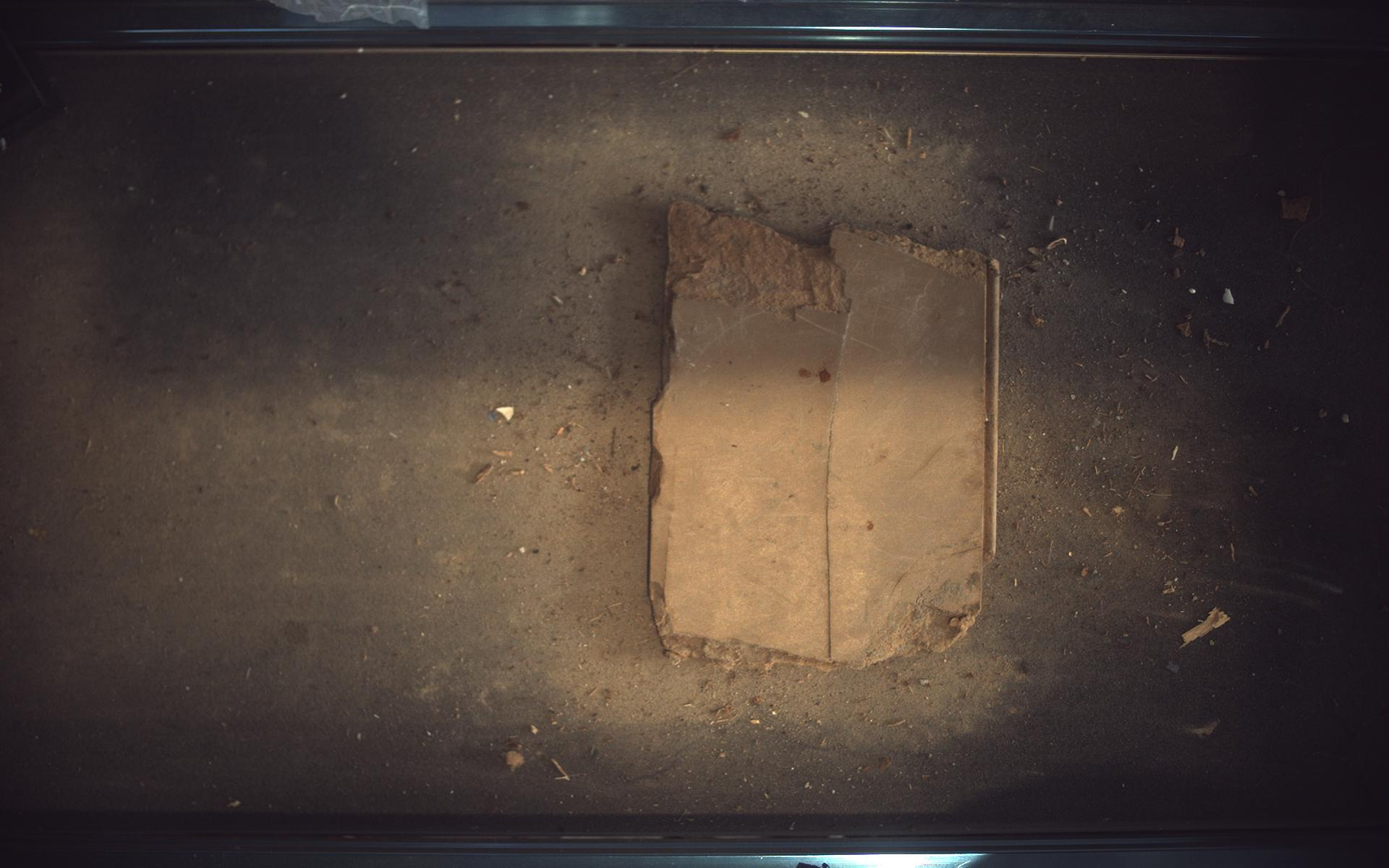wood: (650, 202, 1001, 668)
